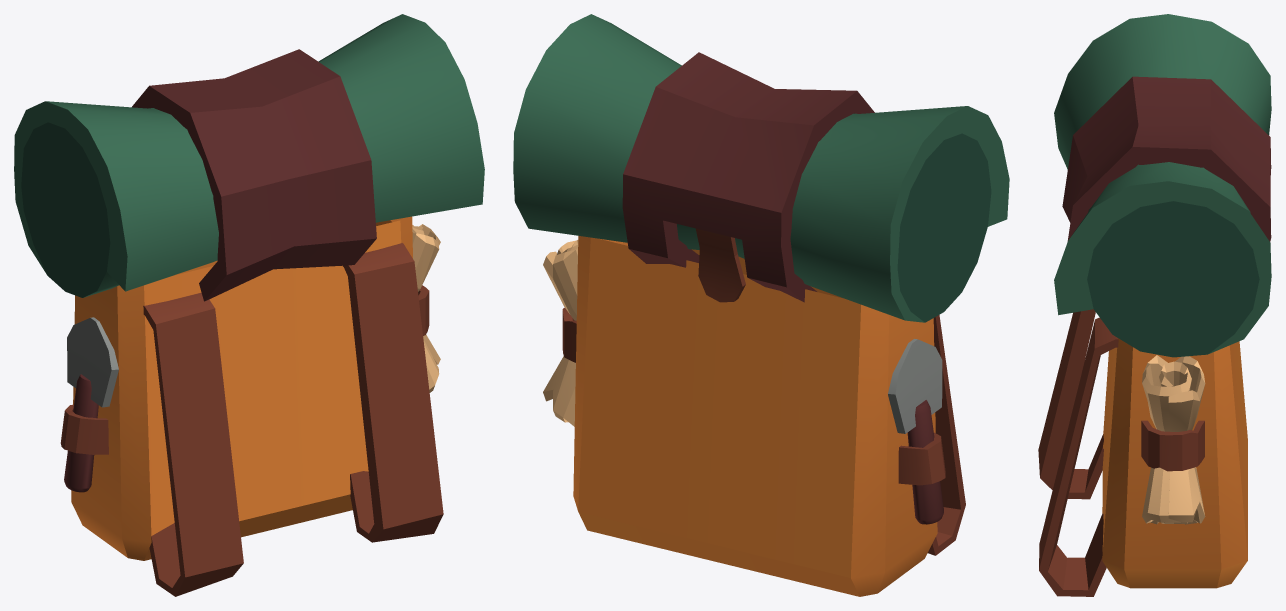
File: backpack.fbx
The picture shows the model from 3 angles, left to right: view 1: azimuth 30°, elevation 25°; view 2: azimuth 150°, elevation 25°; view 3: azimuth 270°, elevation 25°; orthographic projection. The views are drawn at different scales.
Visible parts, largest first — view 1: bag, blanket, axe, map; view 2: bag, blanket, axe, map; view 3: bag, blanket, map.
Boxes of the visible parts, left/top/right/bottom form: bag: left=60, top=49, right=443, bottom=596; blanket: left=14, top=14, right=484, bottom=297; axe: left=64, top=317, right=118, bottom=492; map: left=412, top=224, right=440, bottom=392; bag: left=562, top=52, right=965, bottom=596; blanket: left=513, top=14, right=1009, bottom=322; axe: left=888, top=339, right=943, bottom=524; map: left=543, top=240, right=578, bottom=426; bag: left=1038, top=76, right=1271, bottom=596; blanket: left=1054, top=14, right=1271, bottom=357; map: left=1142, top=355, right=1205, bottom=524.
Size of the model in its own units: 4.02 by 4.7 by 2.26.
